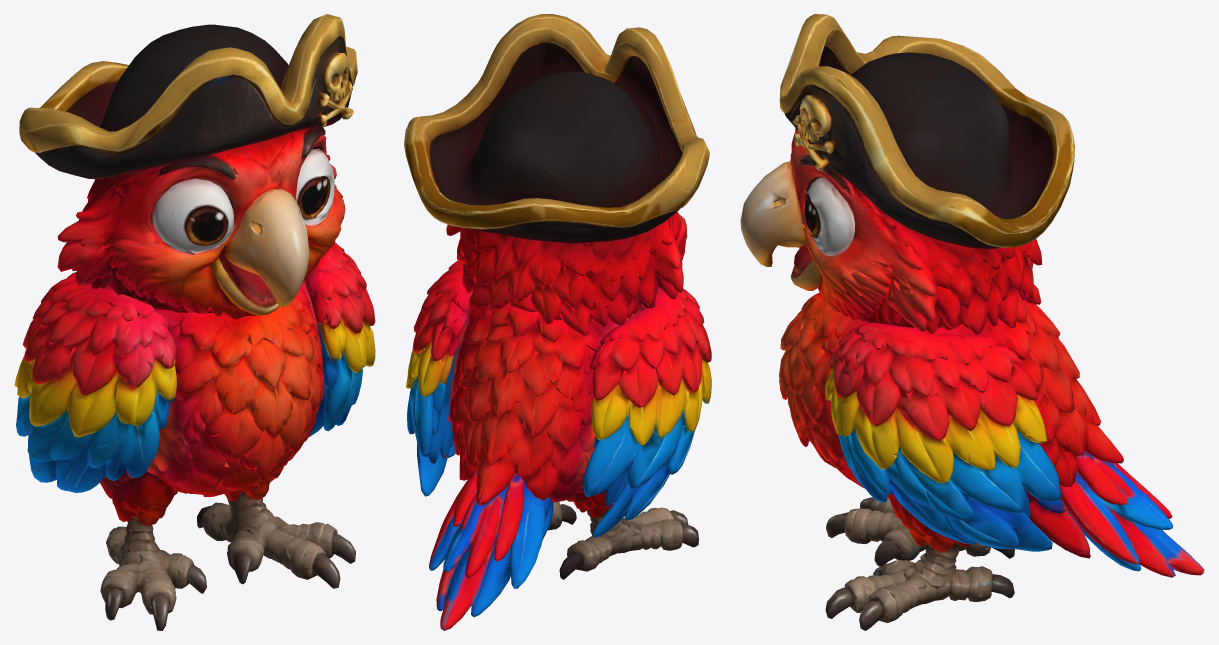
File: parrot.glb
3 views of the same model, side by side, from view 1: azimuth 30°, elevation 25°; view 2: azimuth 150°, elevation 25°; view 3: azimuth 270°, elevation 25° (orthographic). The views are drawn at different scales.
Visible parts, largest first — view 1: head, parrot, wing_r, wing_l; view 2: head, parrot, wing_r, tail, wing_l; view 3: head, wing_l, parrot, tail.
Boxes of the visible parts, box(x1,y1,x2,y2) form: head: box(19, 14, 357, 319); parrot: box(100, 282, 355, 630); wing_r: box(14, 272, 176, 492); wing_l: box(304, 243, 375, 436); head: box(404, 14, 709, 335); parrot: box(448, 301, 698, 579); wing_r: box(583, 286, 711, 537); tail: box(429, 471, 553, 630); wing_l: box(406, 260, 472, 496); head: box(740, 14, 1074, 334); wing_l: box(825, 322, 1061, 551); parrot: box(779, 284, 1123, 630); tail: box(1029, 451, 1204, 577).
Size of the model in its own units: 2.05 by 3.4 by 2.61.
Materials: 6 (6 with a texture image).
